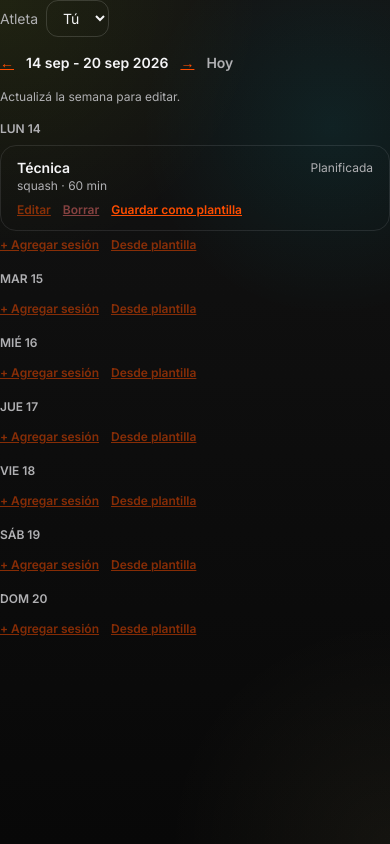
Test: CoachPlanningPanel interactions › un fallo al guardar queda visible dentro del diálogo de nombre
Click the button "Guardar como plantilla". click: (177, 210)
box: [111,202,242,218]
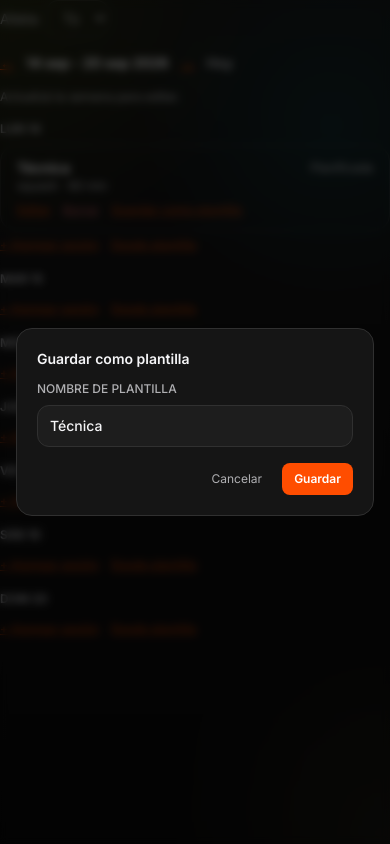
Click the button "Guardar". click: (318, 479)
box: [282,463,353,495]
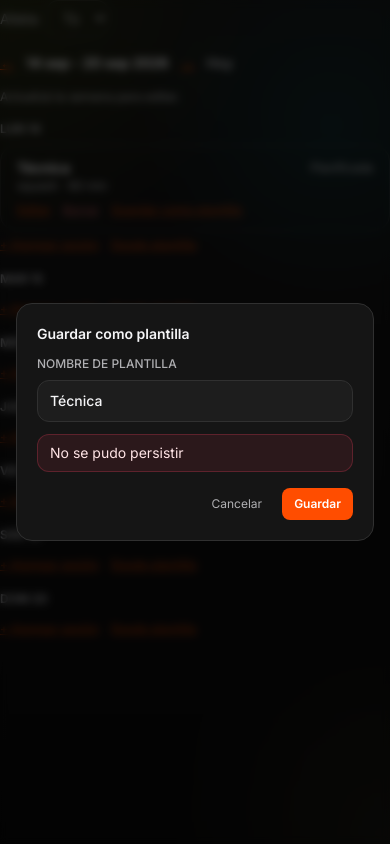
expect the heading "Guardar como plantilla" is shown: met, box [37,325,190,342]
expect the message reads "No se pudo persistir": met, box [50,444,184,461]
